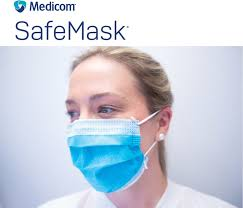mask: (59, 56, 156, 193)
